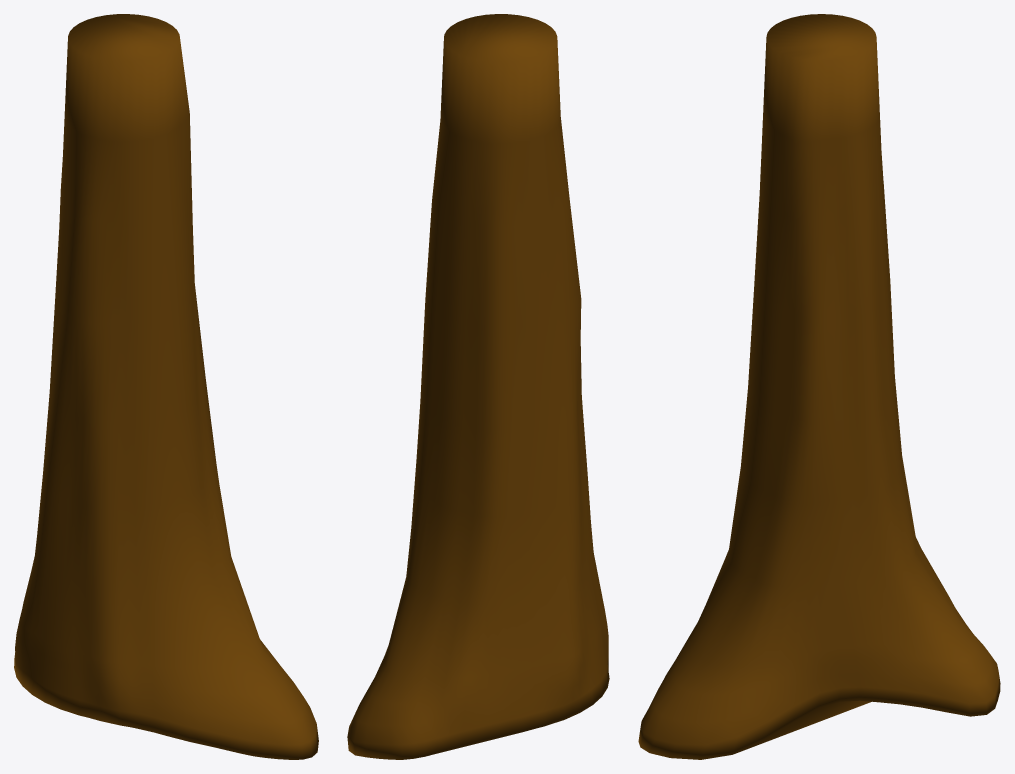
File: GrandArbre.fbx
The picture shows the model from 3 angles, left to right: view 1: azimuth 30°, elevation 25°; view 2: azimuth 150°, elevation 25°; view 3: azimuth 270°, elevation 25°; orthographic projection. The views are drawn at different scales.
Visible parts, largest first — view 1: GrandArbres; view 2: GrandArbres; view 3: GrandArbres.
Boxes of the visible parts, x1,y1,x2,y2 form: GrandArbres: (14, 14, 318, 759); GrandArbres: (347, 14, 609, 759); GrandArbres: (638, 14, 1000, 759).
Bounding box in the file's own units: 721 × 2110 × 1041.
